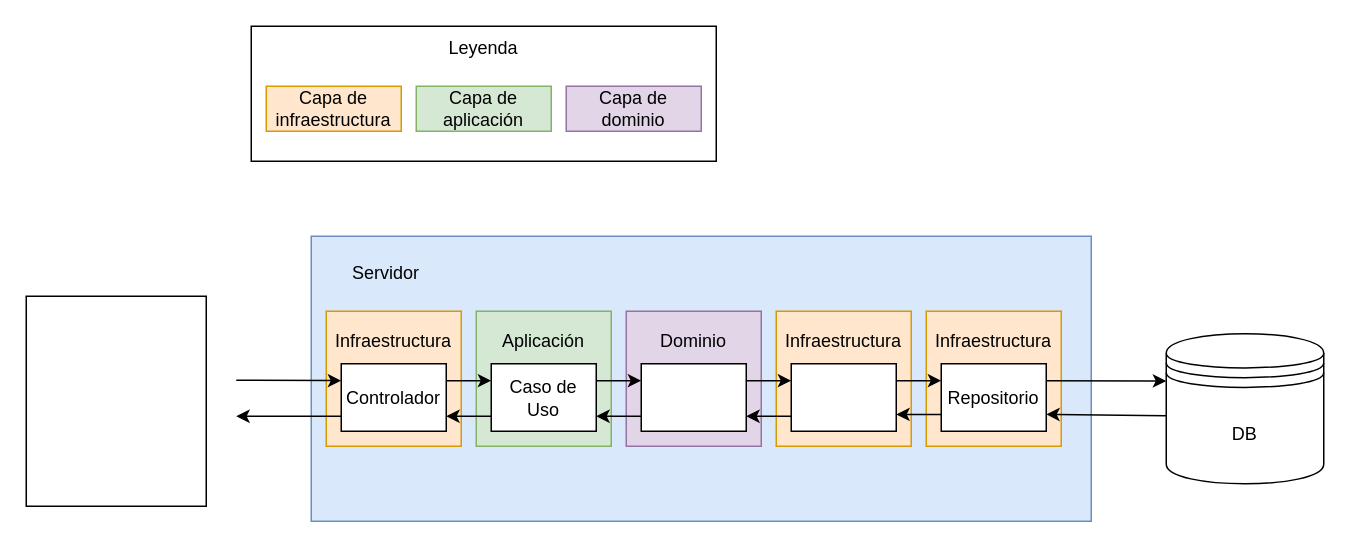
This 1350x548 diagram has some shape labels left out. Here are the shapes that lost their labels. From the top down, the centre of each, then its label:
the point at 115,400: Cliente
the point at 693,396: Servicio
the point at 843,396: Adaptador
